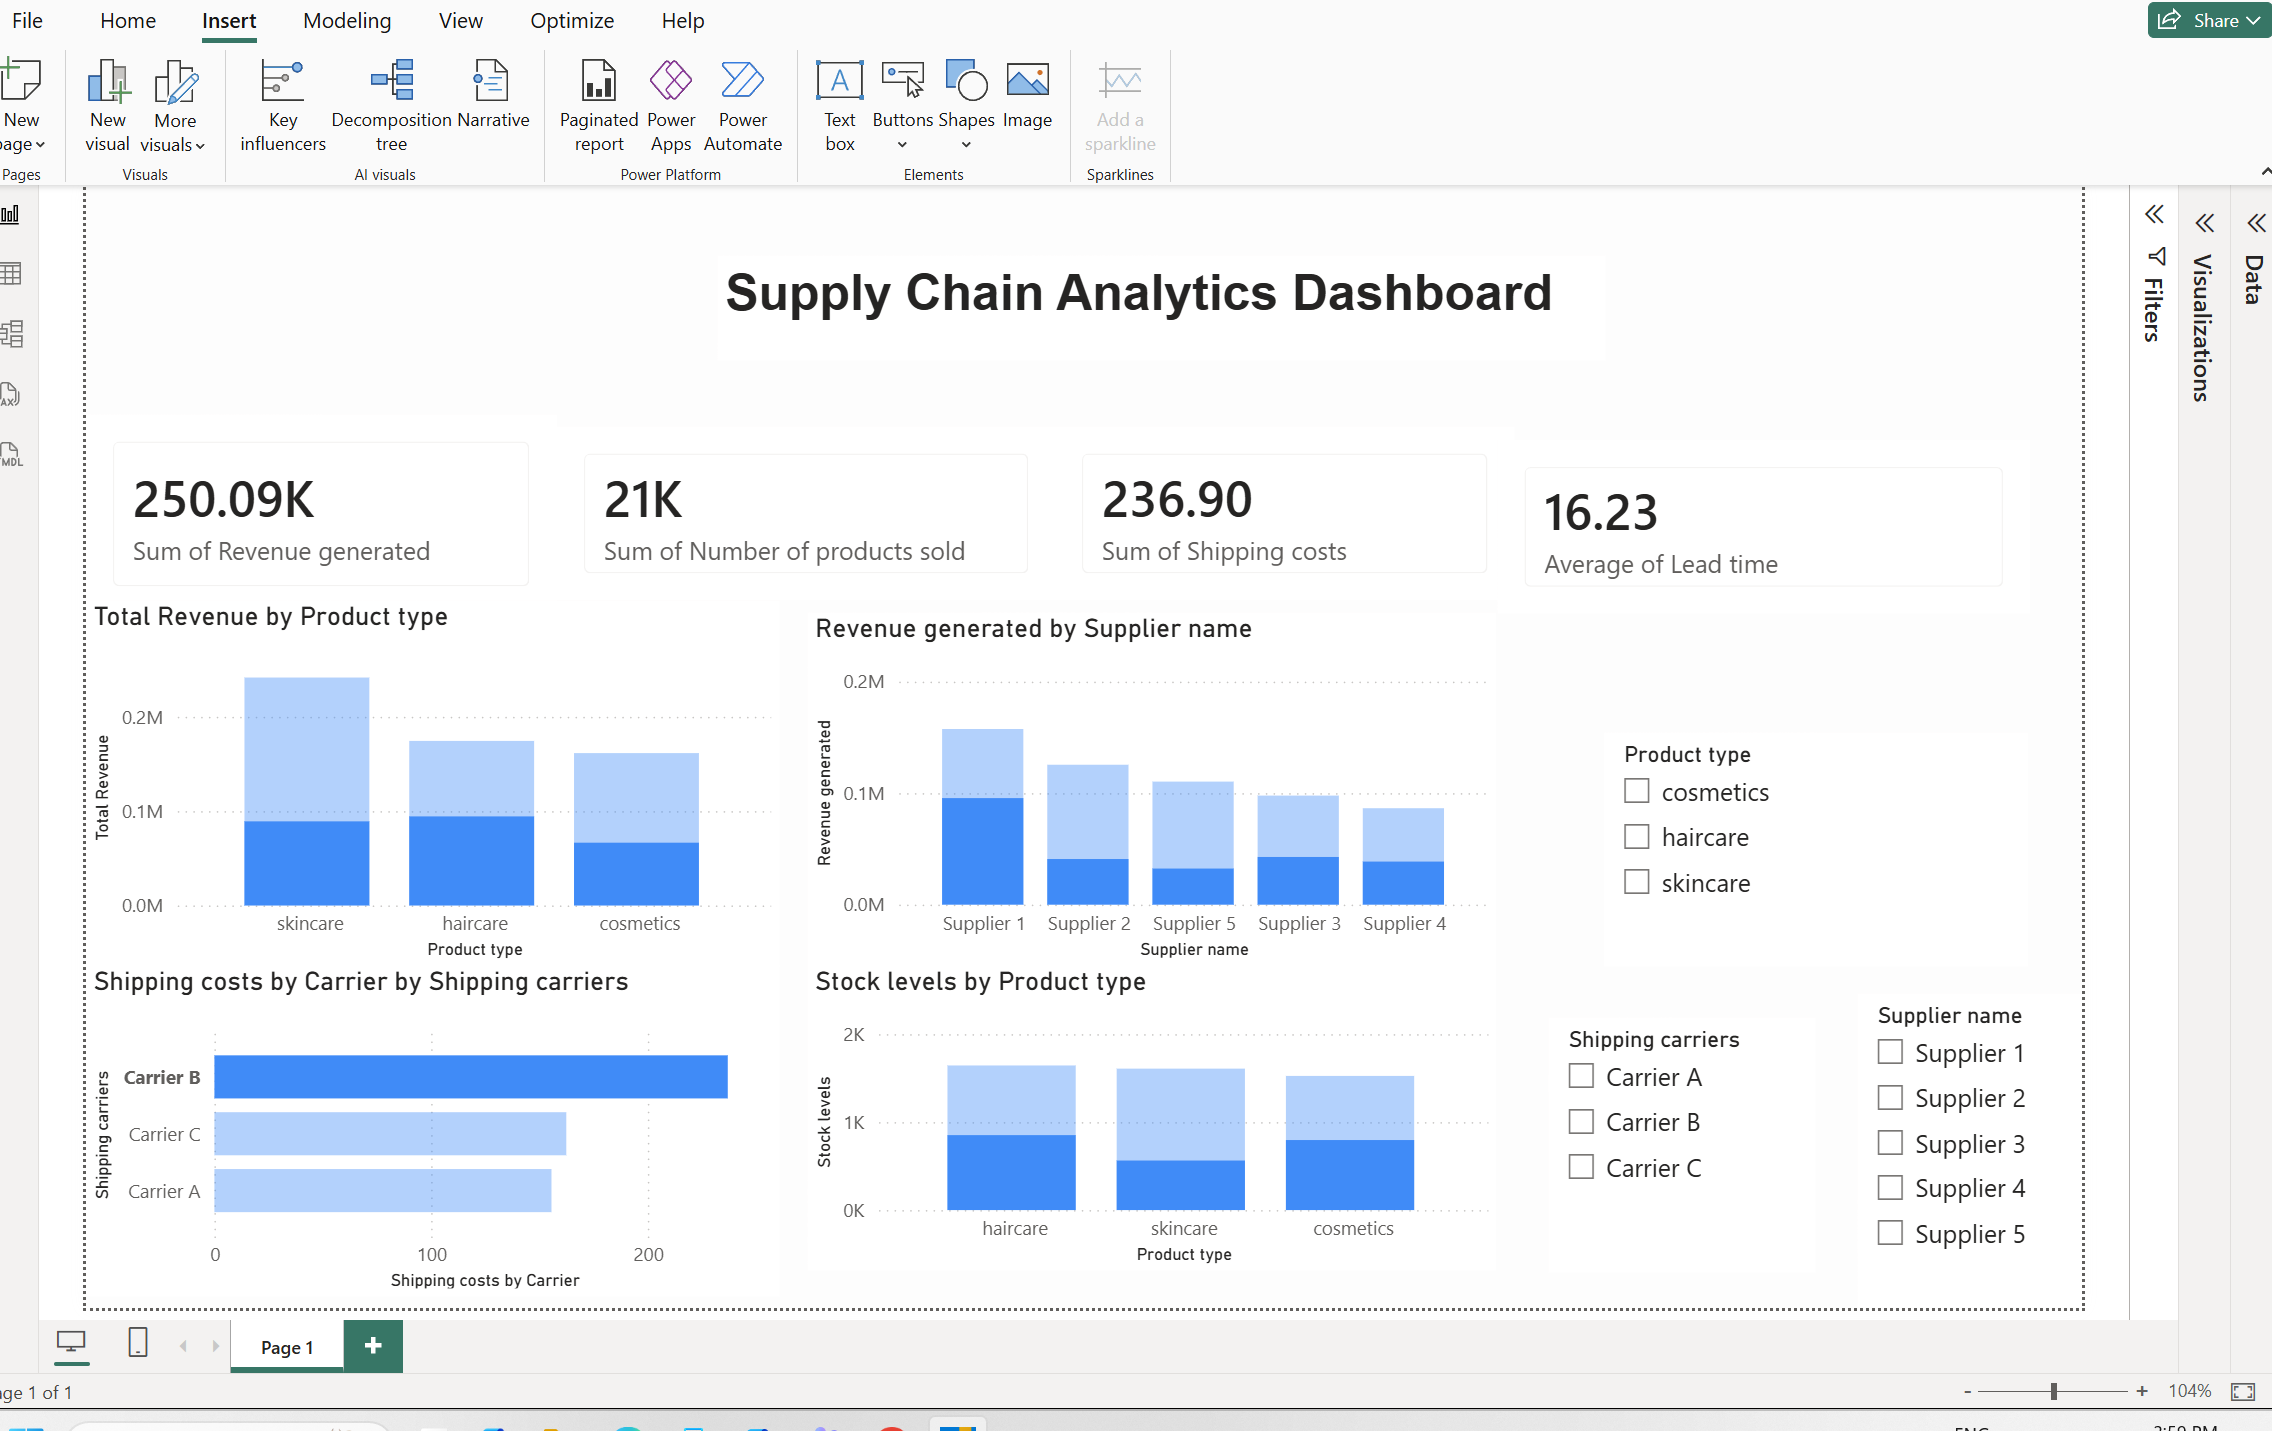

The dashboard page shown, as its layout file describes it:
{"tool":"powerbi","page":{"name":"Page 1","canvas":[1280,720],"ordinal":0},"visuals":[{"type":"cardVisual","fields":{"Data":["Sum(supply_chain_data.Revenue generated)"]},"box":[0,146.7,301.7,127.5],"z":0},{"type":"cardVisual","fields":{"Data":["Sum(supply_chain_data.Number of products sold)"]},"box":[301.7,155,319.5,111.1],"z":1000},{"type":"cardVisual","fields":{"Data":["Sum(supply_chain_data.Shipping costs)"]},"box":[621.3,155,294.9,111.1],"z":2000},{"type":"cardVisual","fields":{"Data":["Avg(supply_chain_data.Lead time)"]},"box":[905.1,163.2,341.5,111.1],"z":3000},{"type":"clusteredColumnChart","fields":{"Category":["supply_chain_data.Product type"],"Y":["Sum(supply_chain_data.Revenue generated)"]},"box":[0,266.1,444.3,234.5],"z":4000},{"type":"clusteredBarChart","fields":{"Category":["supply_chain_data.Shipping carriers"],"Y":["Sum(supply_chain_data.Shipping costs)"]},"box":[0,500.6,444.3,212.6],"z":5000},{"type":"clusteredColumnChart","fields":{"Category":["supply_chain_data.Supplier name"],"Y":["Sum(supply_chain_data.Revenue generated)"]},"box":[462.2,274.3,441.6,226.3],"z":6000},{"type":"clusteredColumnChart","fields":{"Category":["supply_chain_data.Product type"],"Y":["Sum(supply_chain_data.Stock levels)"]},"box":[462.2,500.6,441.6,196.1],"z":7000},{"type":"textbox","box":[404.6,45.3,569.1,67.2],"z":8000},{"type":"slicer","fields":{"Values":["supply_chain_data.Product type"]},"box":[973.7,351.1,272,150],"z":9000},{"type":"slicer","fields":{"Values":["supply_chain_data.Supplier name"]},"box":[1135.5,518.4,144,201.6],"z":10000},{"type":"slicer","fields":{"Values":["supply_chain_data.Shipping carriers"]},"box":[938.1,533.5,171.4,163.2],"z":11000}]}

Visuals, with their boxes on the page's 1280x720 design canvas (x1, y1, x2, y2). These are canvas units, not pixel positions in the 2272x1431 screenshot, which may show the page scaled, cropped or inside an application window:
cardVisual - Sum(supply_chain_data.Revenue generated): <box>0,147,302,274</box>
cardVisual - Sum(supply_chain_data.Number of products sold): <box>302,155,621,266</box>
cardVisual - Sum(supply_chain_data.Shipping costs): <box>621,155,916,266</box>
cardVisual - Avg(supply_chain_data.Lead time): <box>905,163,1247,274</box>
clusteredColumnChart - supply_chain_data.Product type x Sum(supply_chain_data.Revenue generated): <box>0,266,444,501</box>
clusteredBarChart - supply_chain_data.Shipping carriers x Sum(supply_chain_data.Shipping costs): <box>0,501,444,713</box>
clusteredColumnChart - supply_chain_data.Supplier name x Sum(supply_chain_data.Revenue generated): <box>462,274,904,501</box>
clusteredColumnChart - supply_chain_data.Product type x Sum(supply_chain_data.Stock levels): <box>462,501,904,697</box>
textbox: <box>405,45,974,112</box>
slicer - supply_chain_data.Product type: <box>974,351,1246,501</box>
slicer - supply_chain_data.Supplier name: <box>1136,518,1280,720</box>
slicer - supply_chain_data.Shipping carriers: <box>938,534,1110,697</box>
